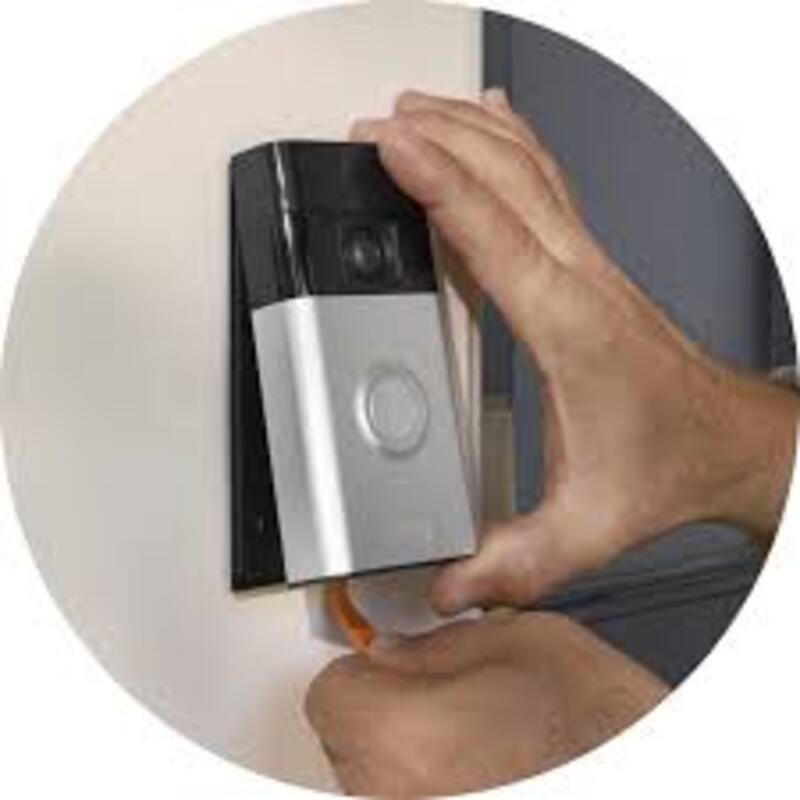doorbell: (236, 162, 476, 579)
